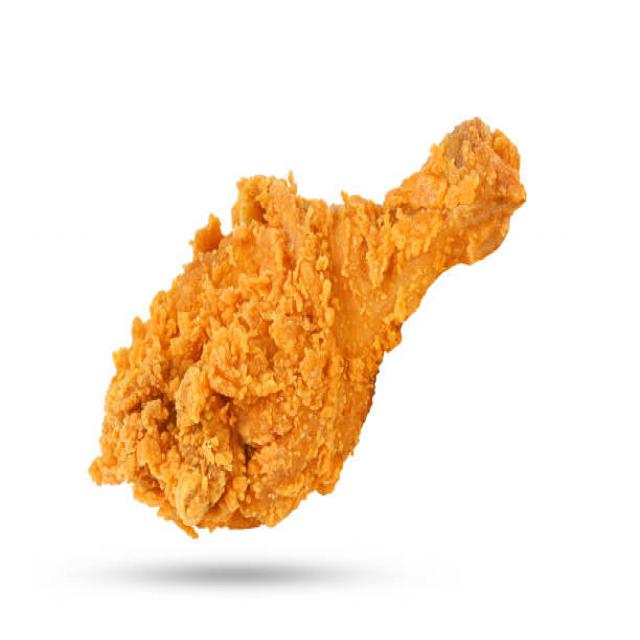Chicken Thigh: (84, 117, 534, 547)
